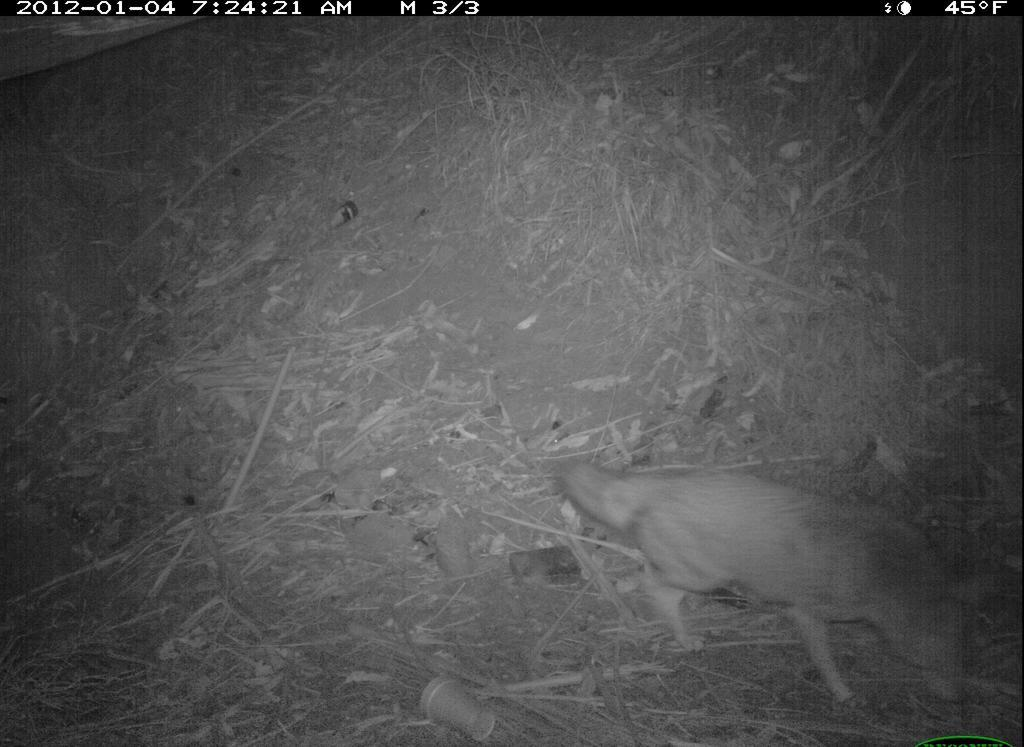coyote: (552, 443, 1003, 716)
